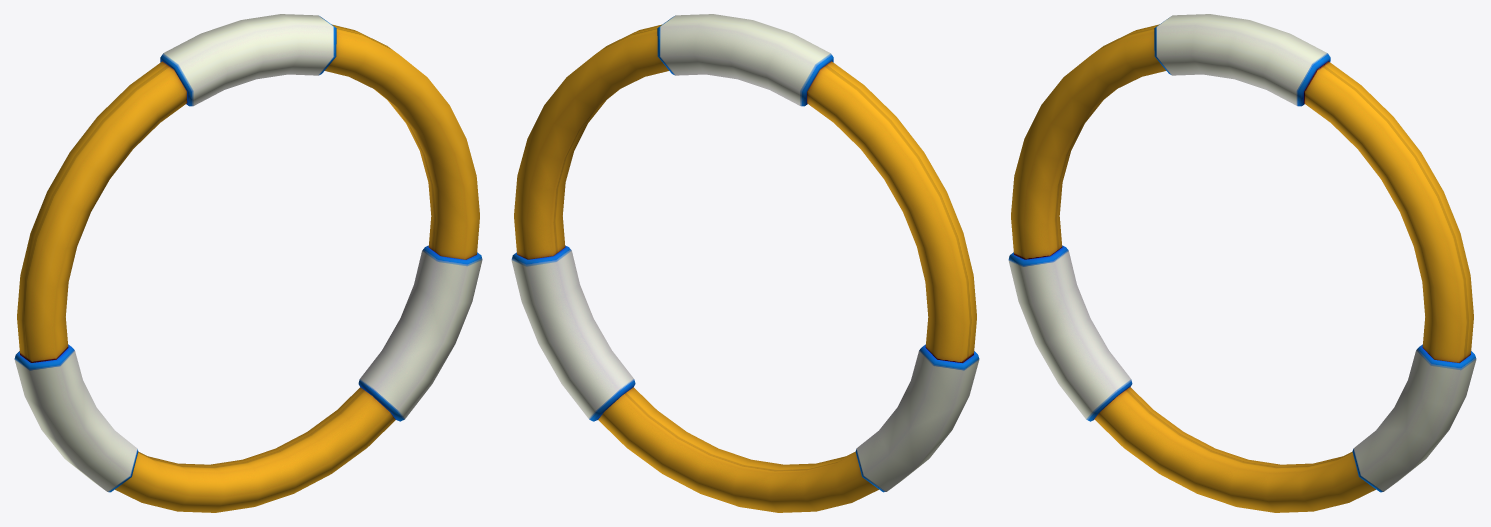
File: HoopsScoreRing2.fbx
3 renders of one model, left to right at view 1: azimuth 30°, elevation 25°; view 2: azimuth 150°, elevation 25°; view 3: azimuth 330°, elevation 25°, orthographic.
Visible parts, largest first — view 1: ENV_SY01_HHR_Hoop02_Trig_MO_0; view 2: ENV_SY01_HHR_Hoop02_Trig_MO_0; view 3: ENV_SY01_HHR_Hoop02_Trig_MO_0.
Part boxes in pixels (bbox=[...]): ENV_SY01_HHR_Hoop02_Trig_MO_0: bbox=[14, 14, 482, 512]; ENV_SY01_HHR_Hoop02_Trig_MO_0: bbox=[511, 14, 979, 512]; ENV_SY01_HHR_Hoop02_Trig_MO_0: bbox=[1008, 14, 1476, 512].
Size of the model in its own units: 15.4 by 15.5 by 1.81.
